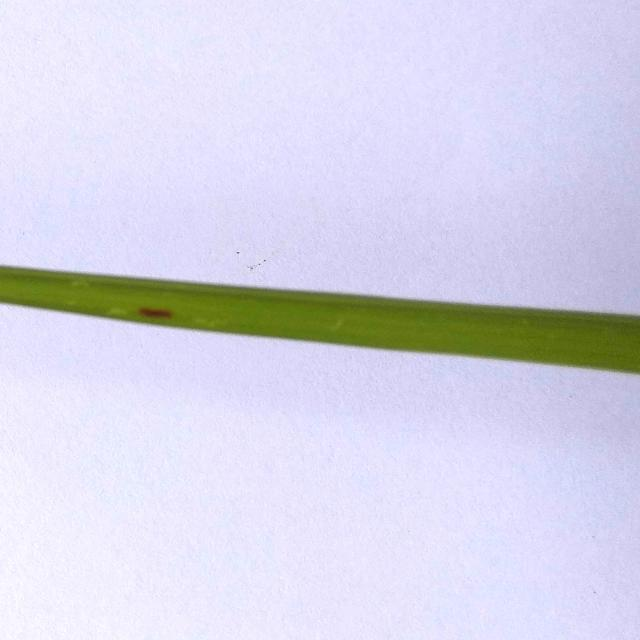brownspots: (136, 297, 180, 324)
